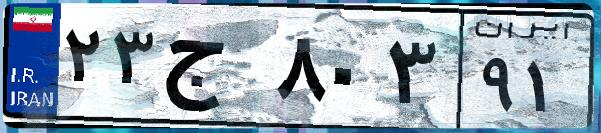0: (330, 28, 385, 110)
1: (525, 38, 570, 115)
2: (57, 26, 110, 100)
3: (385, 28, 445, 110), (110, 28, 158, 98)
8: (270, 28, 330, 110)
9: (475, 38, 525, 113)
ج: (158, 20, 270, 120)
